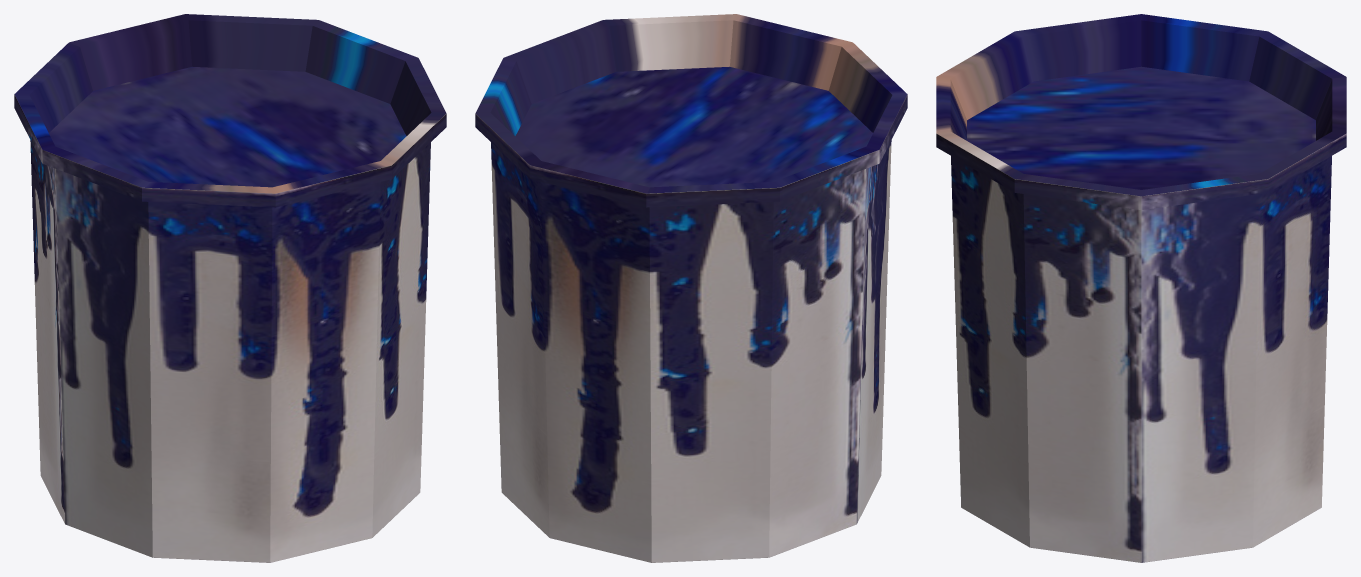
Rendered from paint_can_model.fbx.
The picture shows the model from 3 angles, left to right: view 1: azimuth 30°, elevation 25°; view 2: azimuth 150°, elevation 25°; view 3: azimuth 270°, elevation 25°; orthographic projection.
Visible parts, largest first — view 1: pCylinder1; view 2: pCylinder1; view 3: pCylinder1.
Part boxes in pixels (x1=…): pCylinder1: x1=14, y1=14, x2=446, y2=562; pCylinder1: x1=475, y1=14, x2=907, y2=562; pCylinder1: x1=936, y1=14, x2=1346, y2=562.
Bounding box in the file's own units: 0.0531 × 0.0512 × 0.0505.
